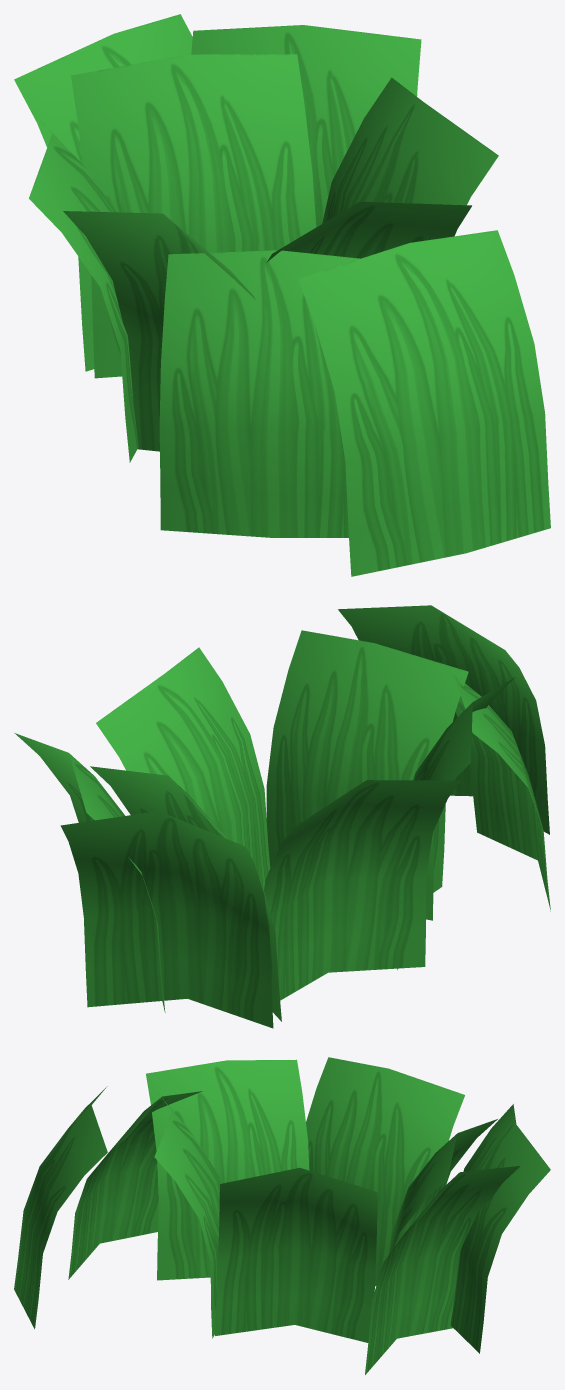
Rendered from grass3.fbx.
3 renders of one model, top to bottom at view 1: azimuth 30°, elevation 25°; view 2: azimuth 150°, elevation 25°; view 3: azimuth 270°, elevation 25°, orthographic. The views are drawn at different scales.
Parts seen in each view (by area): view 1: Grass3; view 2: Grass3; view 3: Grass3.
Part boxes in pixels (x1=…): Grass3: x1=14, y1=14, x2=550, y2=576; Grass3: x1=14, y1=605, x2=550, y2=1028; Grass3: x1=14, y1=1057, x2=550, y2=1374.
Bounding box in the file's own units: 1.46 × 0.9111 × 2.15.
